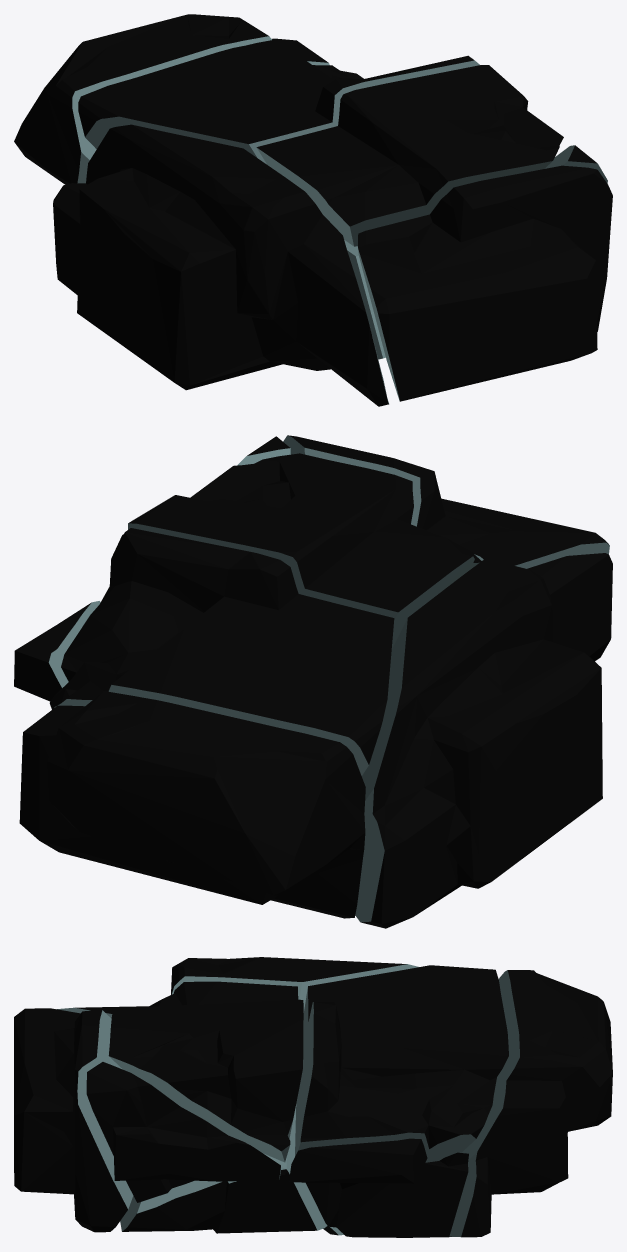
File: SM_LP_MetalNode_4_Pieces.fbx
3 renders of one model, top to bottom at view 1: azimuth 30°, elevation 25°; view 2: azimuth 150°, elevation 25°; view 3: azimuth 270°, elevation 25°, orthographic. The views are drawn at different scales.
Visible parts, largest first — view 1: SM_LP_MetalNode_4_Pieces_1, SM_LP_MetalNode_4_Pieces_3, SM_LP_MetalNode_4_Pieces_6, SM_LP_MetalNode_4_Pieces_4, SM_LP_MetalNode_4_Pieces_2, SM_LP_MetalNode_4_Pieces_5, SM_LP_MetalNode_4_Pieces_8; view 2: SM_LP_MetalNode_4_Pieces_1, SM_LP_MetalNode_4_Pieces_2, SM_LP_MetalNode_4_Pieces_4, SM_LP_MetalNode_4_Pieces_6, SM_LP_MetalNode_4_Pieces_3, SM_LP_MetalNode_4_Pieces_7, SM_LP_MetalNode_4_Pieces_8; view 3: SM_LP_MetalNode_4_Pieces_4, SM_LP_MetalNode_4_Pieces_2, SM_LP_MetalNode_4_Pieces_6, SM_LP_MetalNode_4_Pieces_3, SM_LP_MetalNode_4_Pieces_7, SM_LP_MetalNode_4_Pieces_8, SM_LP_MetalNode_4_Pieces_5, SM_LP_MetalNode_4_Pieces_1.
Boxes of the visible parts, x1,y1,x2,y2 form: SM_LP_MetalNode_4_Pieces_1: (53,124,388,406); SM_LP_MetalNode_4_Pieces_3: (358,165,612,401); SM_LP_MetalNode_4_Pieces_6: (256,65,563,246); SM_LP_MetalNode_4_Pieces_4: (78,39,479,164); SM_LP_MetalNode_4_Pieces_2: (14,14,329,184); SM_LP_MetalNode_4_Pieces_5: (344,240,385,359); SM_LP_MetalNode_4_Pieces_8: (545,145,607,183); SM_LP_MetalNode_4_Pieces_1: (355,553,612,928); SM_LP_MetalNode_4_Pieces_2: (19,691,365,918); SM_LP_MetalNode_4_Pieces_4: (49,528,394,775); SM_LP_MetalNode_4_Pieces_6: (128,453,481,649); SM_LP_MetalNode_4_Pieces_3: (283,435,609,568); SM_LP_MetalNode_4_Pieces_7: (14,601,100,701); SM_LP_MetalNode_4_Pieces_8: (237,436,290,465); SM_LP_MetalNode_4_Pieces_4: (295,965,508,1162); SM_LP_MetalNode_4_Pieces_2: (449,970,612,1237); SM_LP_MetalNode_4_Pieces_6: (108,981,303,1162); SM_LP_MetalNode_4_Pieces_3: (14,1008,133,1232); SM_LP_MetalNode_4_Pieces_7: (289,1138,468,1237); SM_LP_MetalNode_4_Pieces_8: (86,1062,280,1202); SM_LP_MetalNode_4_Pieces_5: (120,1104,343,1235); SM_LP_MetalNode_4_Pieces_1: (57,957,418,1018).
Bounding box in the file's own units: 0.8495 × 0.4309 × 1.2.
